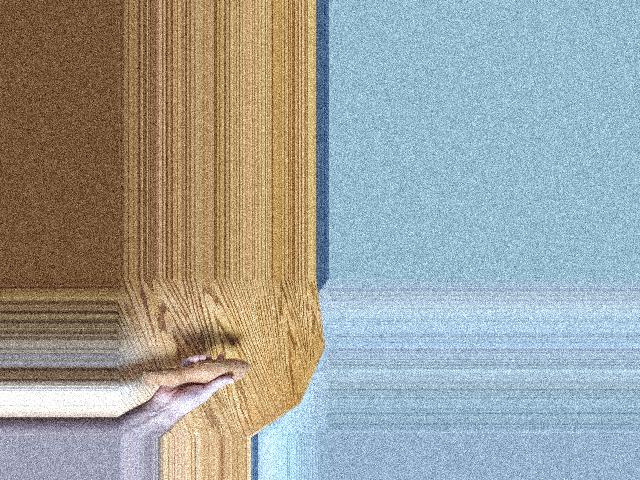sweet_potato: (139, 359, 255, 392)
